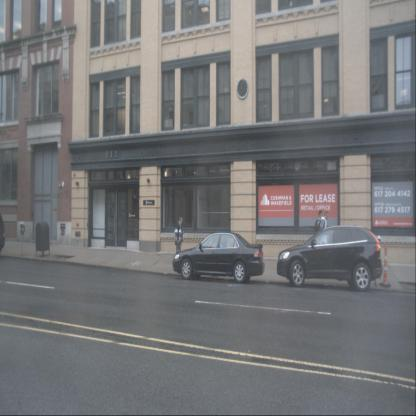cone: (379, 241, 391, 288)
